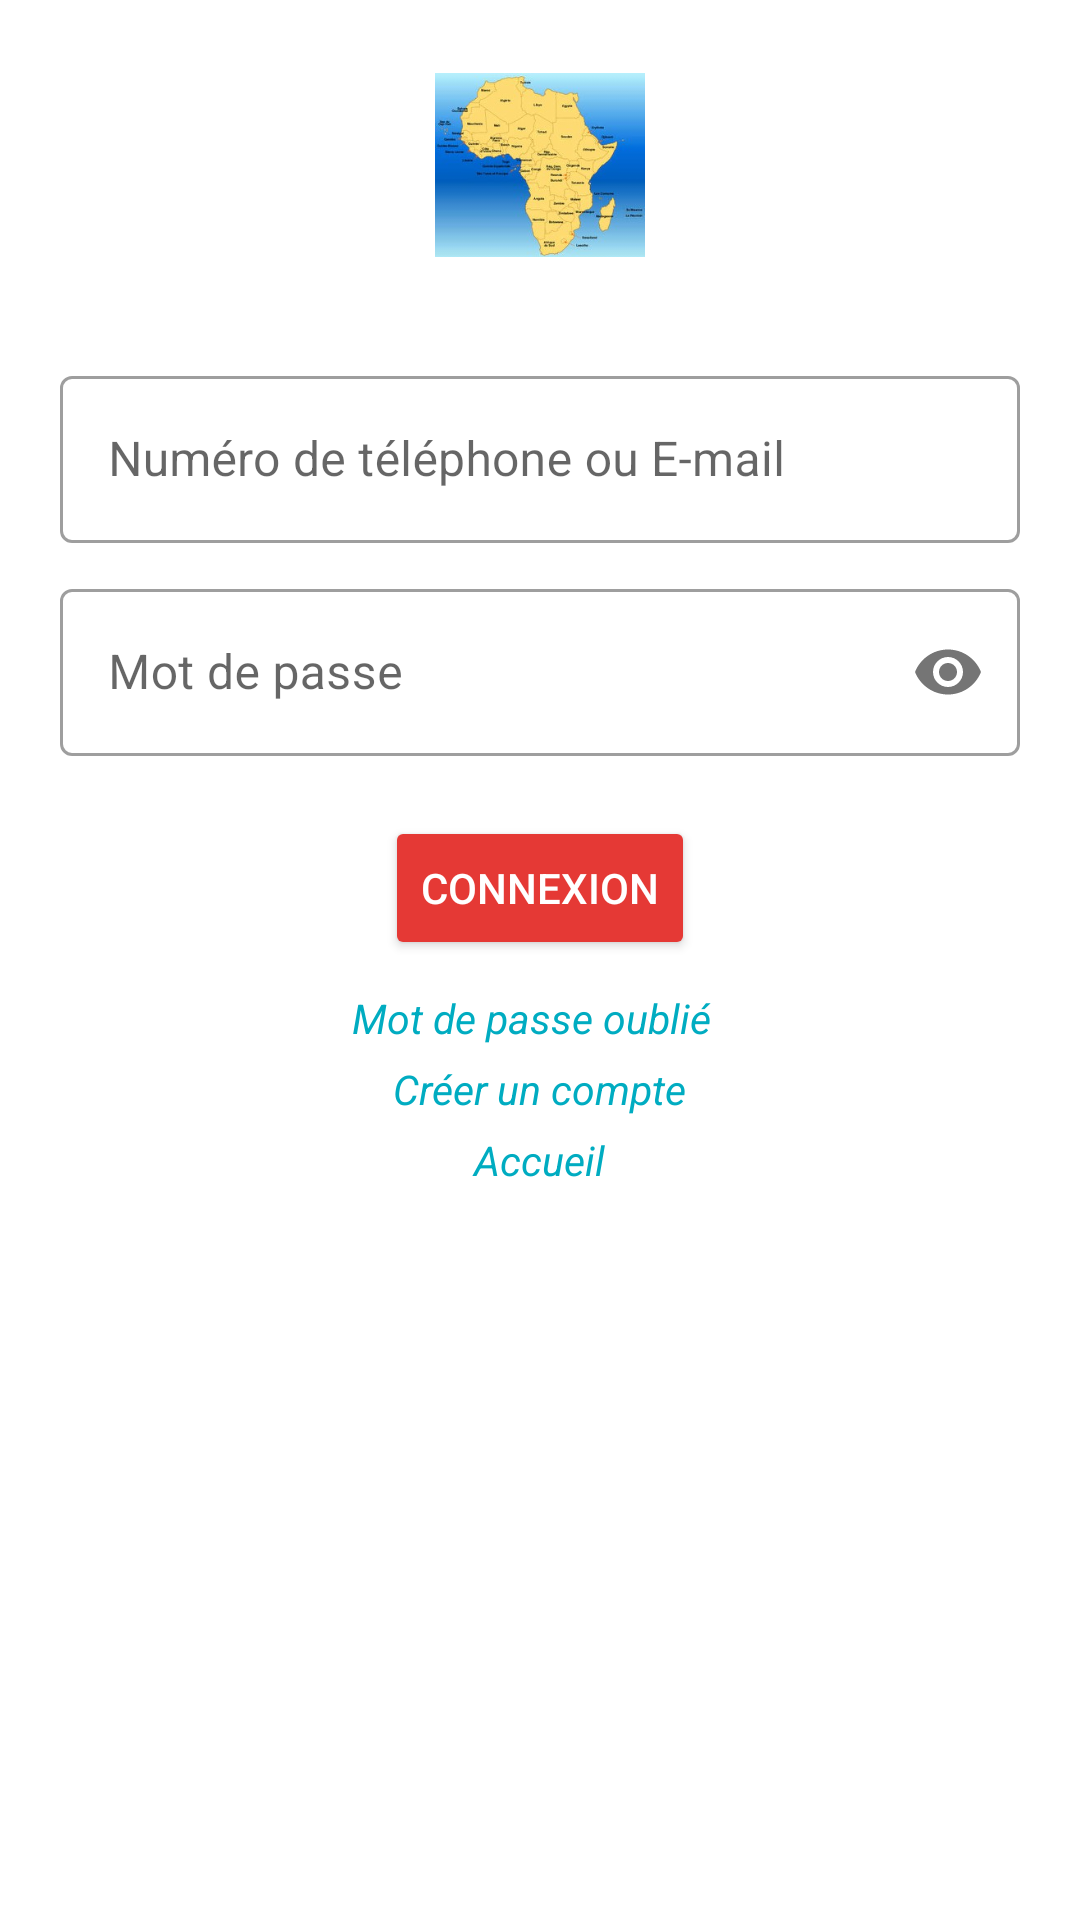

Where icons sit on this 1080x1920 app screen, as (x1, y1, x2, y2):
carte: (435, 73, 645, 257)
